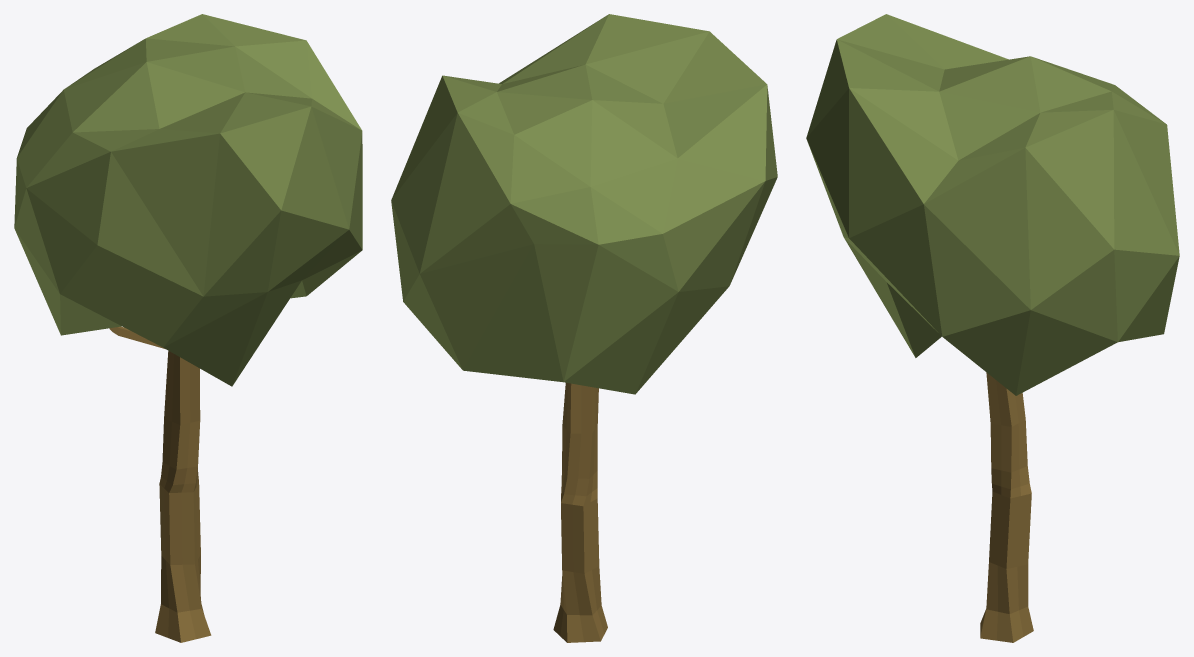
Rendered from small_tree_2.fbx.
The picture shows the model from 3 angles, left to right: view 1: azimuth 30°, elevation 25°; view 2: azimuth 150°, elevation 25°; view 3: azimuth 270°, elevation 25°; orthographic projection. The views are drawn at different scales.
Visible parts, largest first — view 1: Cylinder.001; view 2: Cylinder.001; view 3: Cylinder.001.
Boxes of the visible parts, x1,y1,x2,y2 form: Cylinder.001: (14,14,362,642); Cylinder.001: (391,14,777,642); Cylinder.001: (806,14,1179,642).
Bounding box in the file's own units: 264 × 425 × 253.
